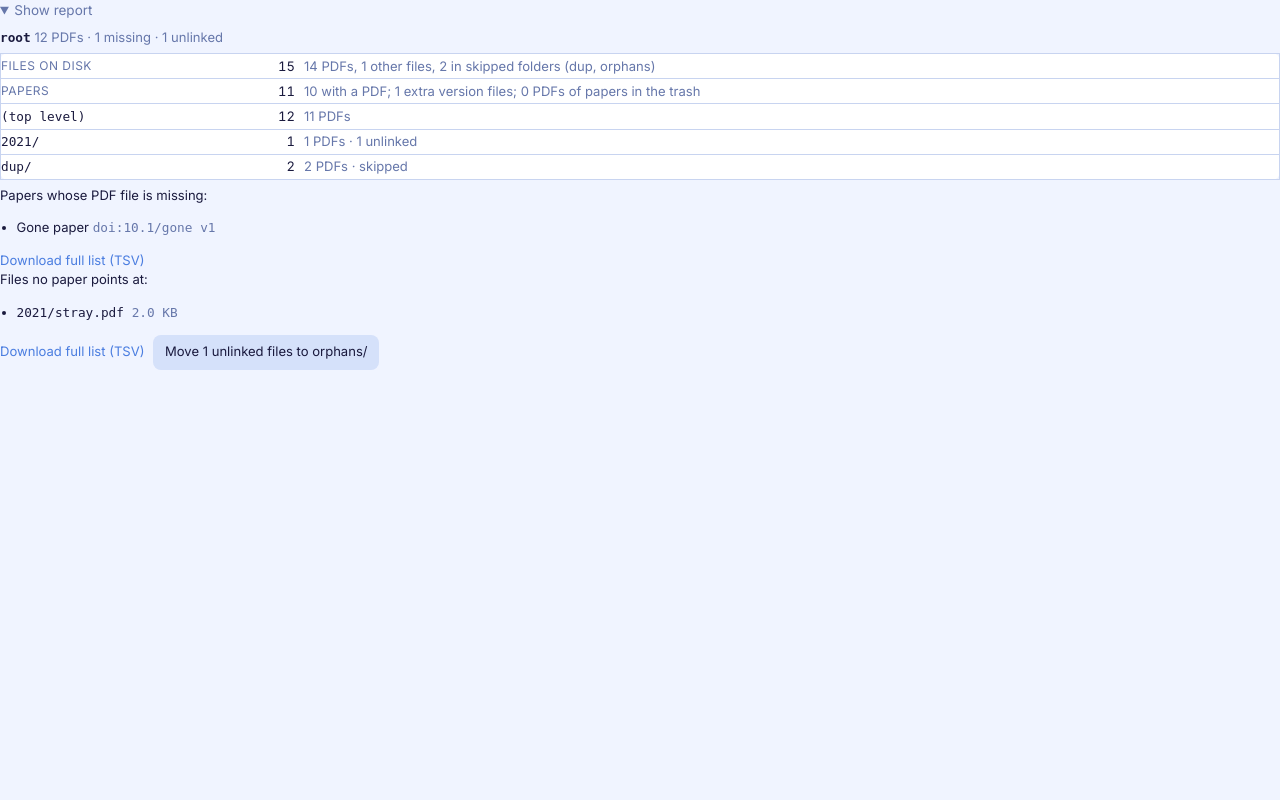
Test: PdfCheckReport › moves unlinked files after confirm and shows the result
Click the button with aria-label "Move unlinked files of root to orphans" at (266, 352), box [154,335,379,370]
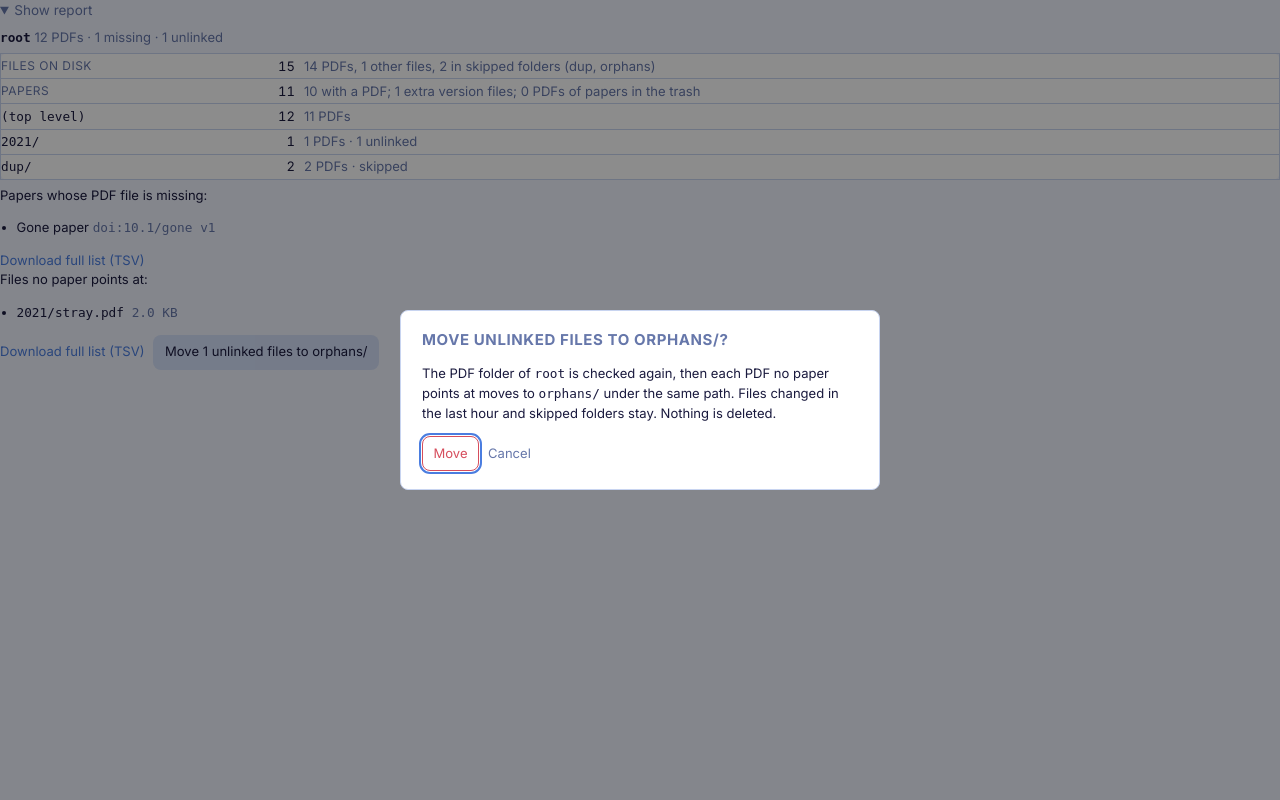
Click the button "Move" at (450, 454), box [422,436,479,471]
Wait 1100 ms
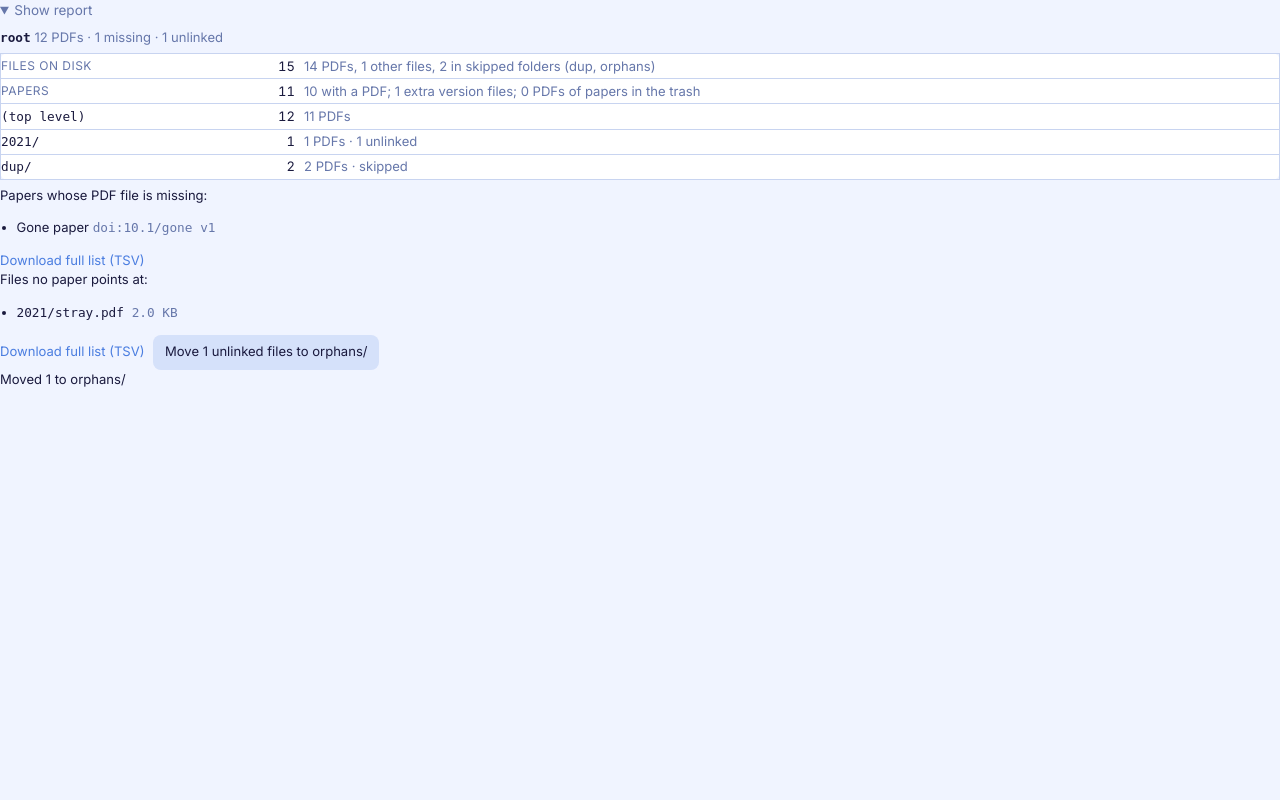
Result: the text "Moved 1 to orphans/" is shown at [0,371,126,387]
